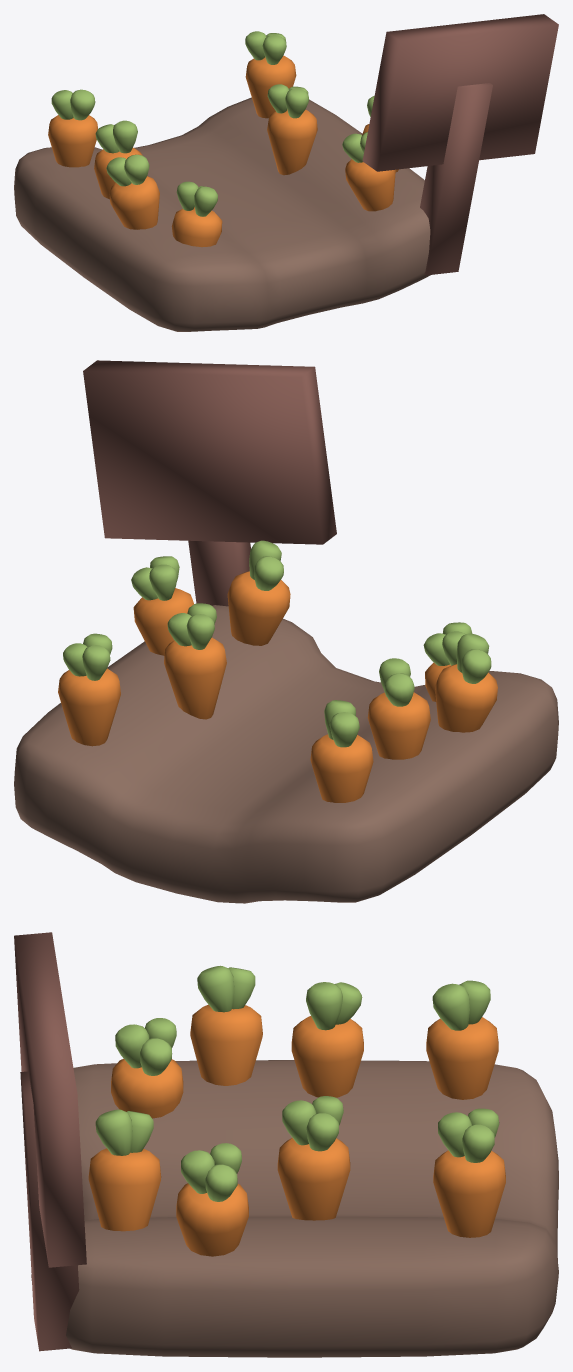
The model's file is attackblock.fbx.
3 renders of one model, top to bottom at view 1: azimuth 30°, elevation 25°; view 2: azimuth 150°, elevation 25°; view 3: azimuth 270°, elevation 25°, orthographic. The views are drawn at different scales.
Parts seen in each view (by area): view 1: Cube.038; view 2: Cube.038; view 3: Cube.038.
Boxes of the visible parts, box(x1,y1,x2,y2) form: Cube.038: box(14, 14, 558, 331); Cube.038: box(14, 360, 558, 903); Cube.038: box(14, 932, 558, 1357).
Size of the model in its own units: 230 by 157 by 187.
